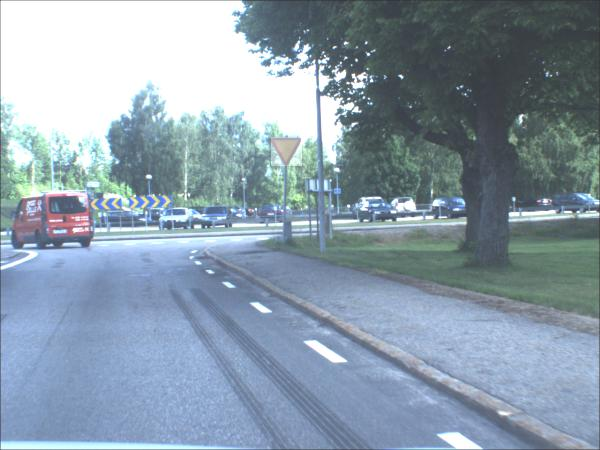GIVE_WAY: (272, 138, 304, 168)
